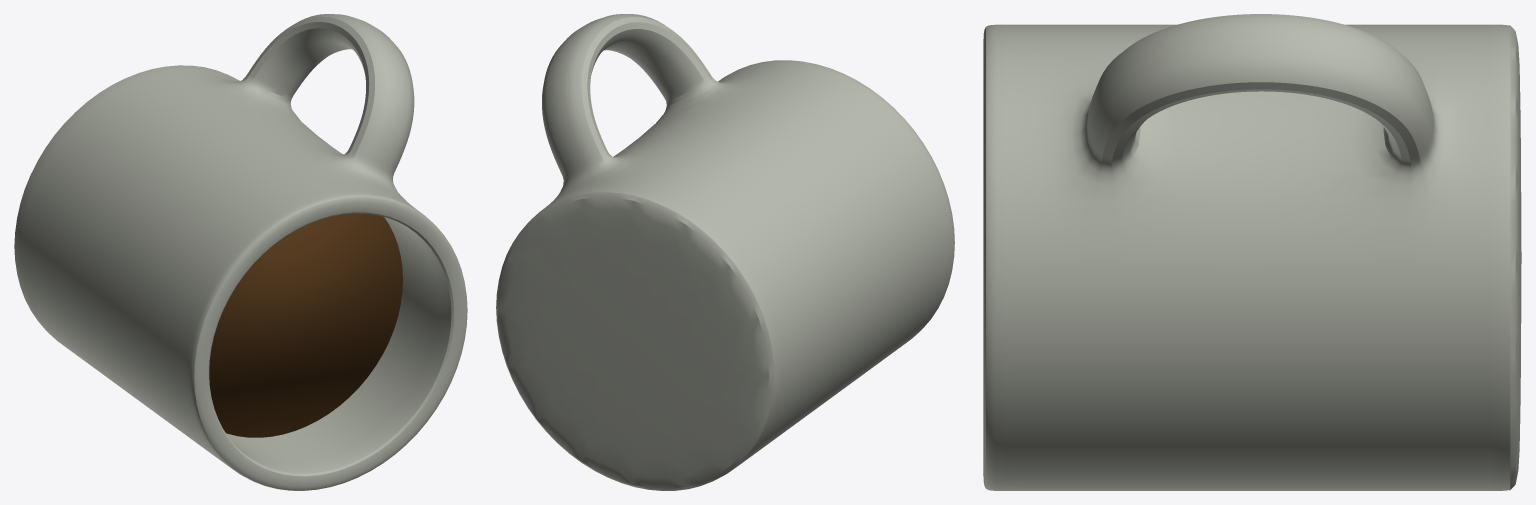
Rendered from mug.fbx.
3 renders of one model, left to right at view 1: azimuth 30°, elevation 25°; view 2: azimuth 150°, elevation 25°; view 3: azimuth 270°, elevation 25°, orthographic. The views are drawn at different scales.
Parts seen in each view (by area): view 1: Taza, Cafe; view 2: Taza; view 3: Taza.
Boxes of the visible parts, <box> form: Taza: <box>14,14,467,490</box>; Cafe: <box>209,213,402,437</box>; Taza: <box>496,14,954,490</box>; Taza: <box>983,14,1521,490</box>.
Bounding box in the file's own units: 8.2 × 9.91 × 8.99.
